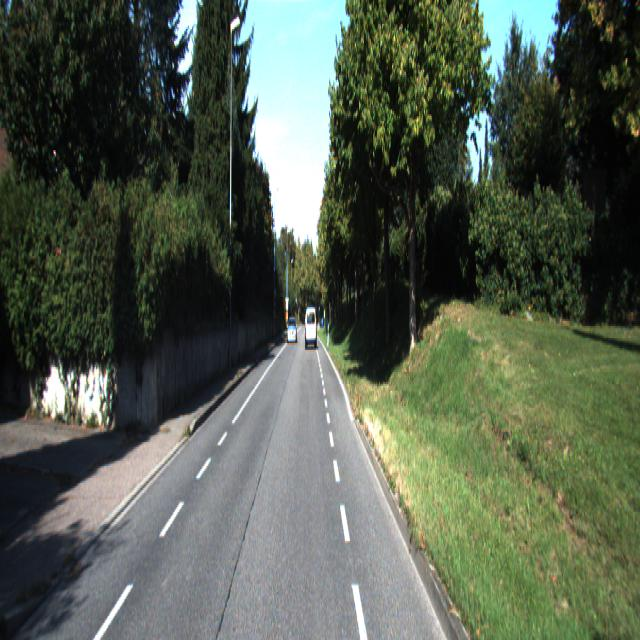Car: (304, 307, 317, 352), (287, 319, 297, 347)
